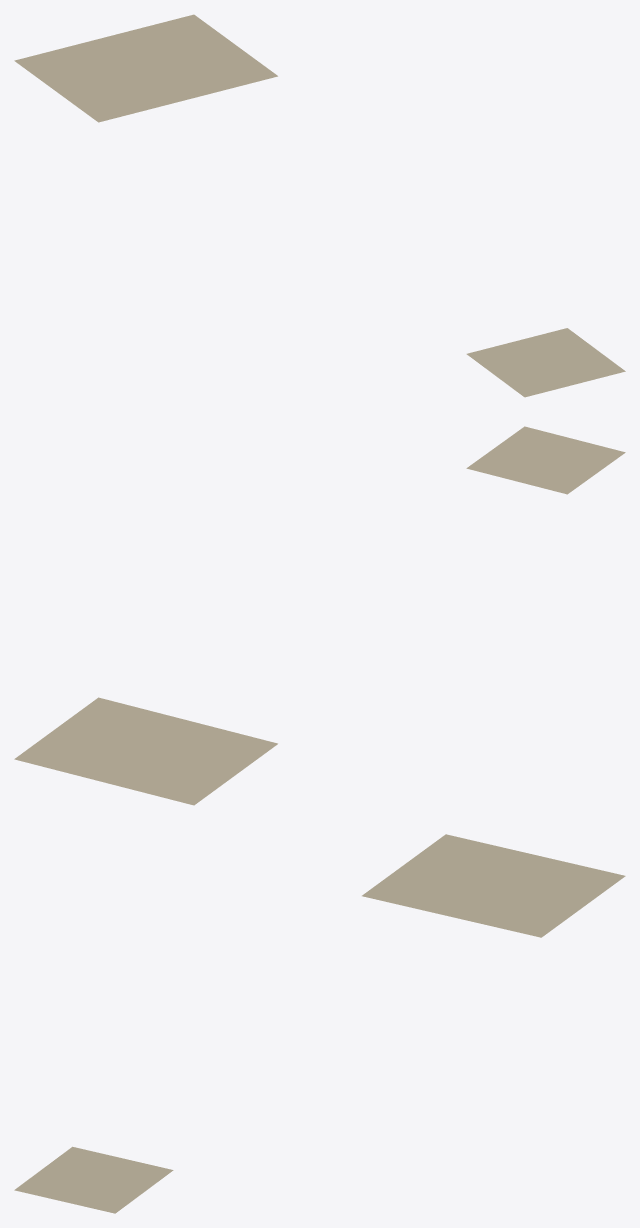
Rendered from SM_Edo_Town_Plazas.fbx.
3 views of the same model, one above another, from view 1: azimuth 30°, elevation 25°; view 2: azimuth 150°, elevation 25°; view 3: azimuth 330°, elevation 25° (orthographic).
Parts seen in each view (by area): view 1: SM_Edo_Town_Plazas; view 2: SM_Edo_Town_Plazas; view 3: SM_Edo_Town_Plazas.
Boxes of the visible parts, bbox=[...] form: SM_Edo_Town_Plazas: bbox=[14, 14, 625, 397]; SM_Edo_Town_Plazas: bbox=[14, 426, 625, 805]; SM_Edo_Town_Plazas: bbox=[14, 834, 625, 1213].
Bounding box in the file's own units: 32 × 0.629 × 145.
